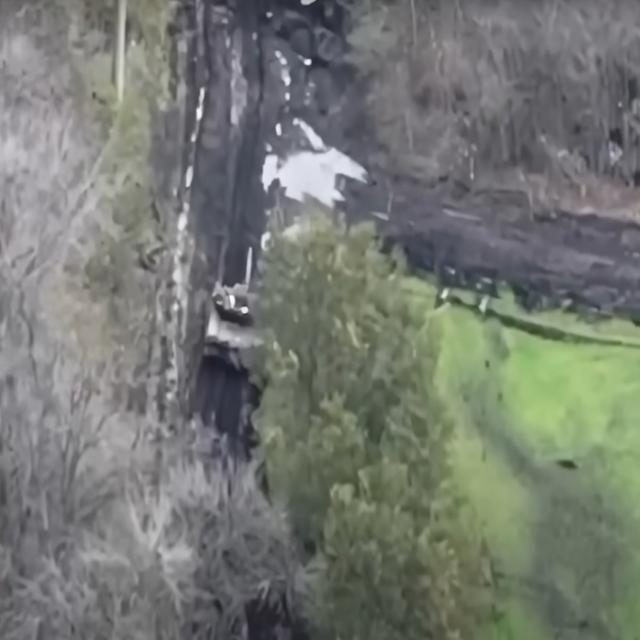MBT: (204, 247, 271, 369)
